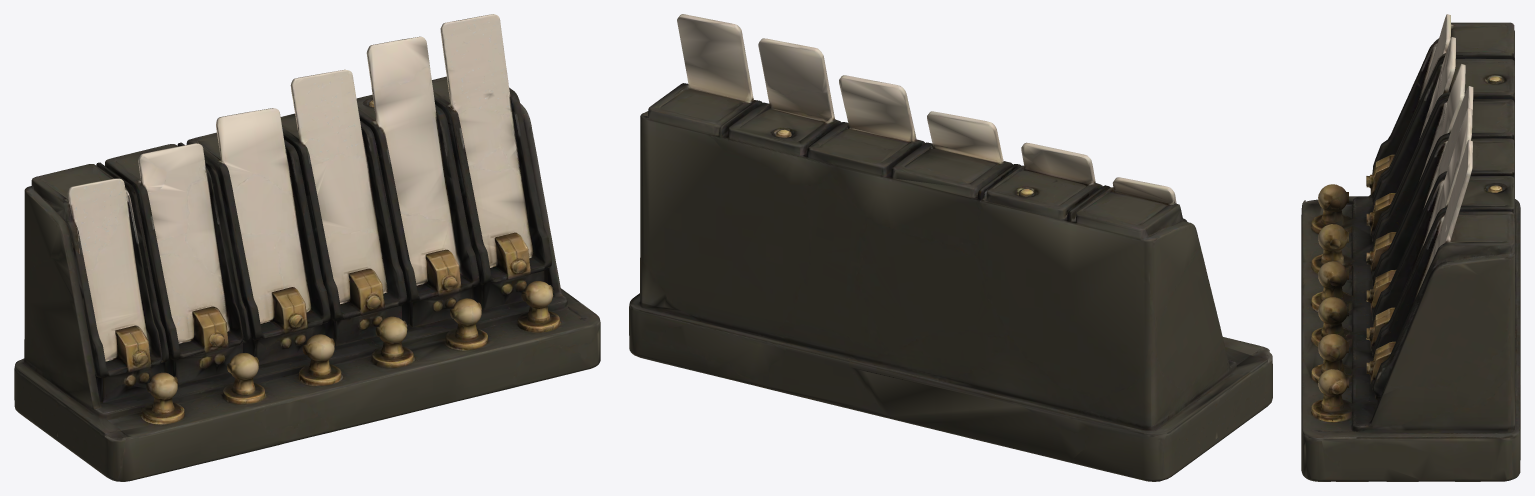
File: hero-harness-compatibility-bank-v1.glb
The picture shows the model from 3 angles, left to right: view 1: azimuth 30°, elevation 25°; view 2: azimuth 150°, elevation 25°; view 3: azimuth 270°, elevation 25°; orthographic projection. The views are drawn at different scales.
Parts seen in each view (by area): view 1: node_0; view 2: node_0; view 3: node_0.
Boxes of the visible parts, x1,y1,x2,y2 form: node_0: (14,14,600,481); node_0: (629,14,1272,481); node_0: (1301,14,1520,481).
Bounding box in the file's own units: 1 × 0.5874 × 0.3839.
Materials: 1 (1 with a texture image).
